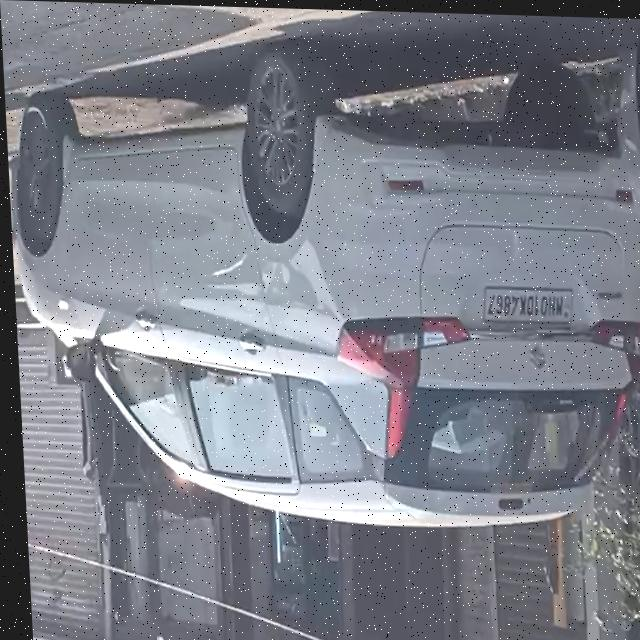plate: (479, 283, 572, 324)
